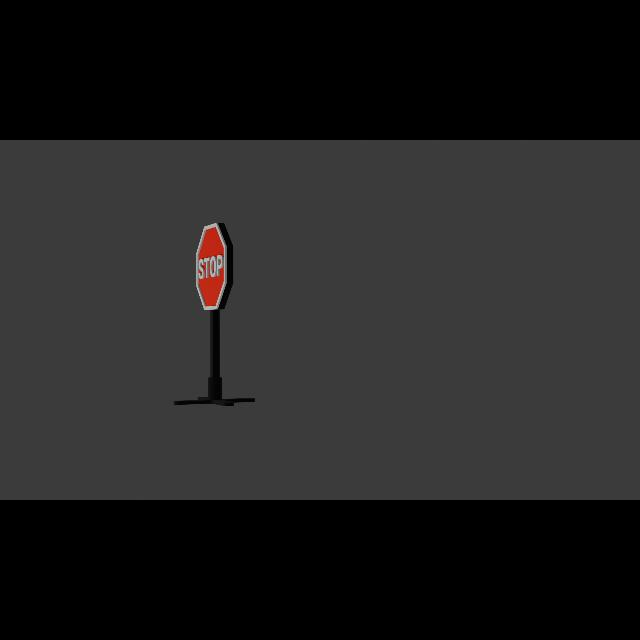sign_stop: (196, 223, 233, 311)
